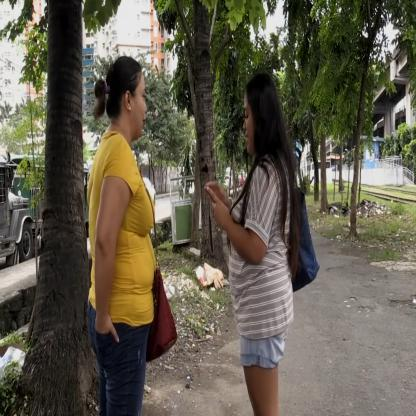person: (87, 56, 161, 416), (226, 72, 299, 416)
